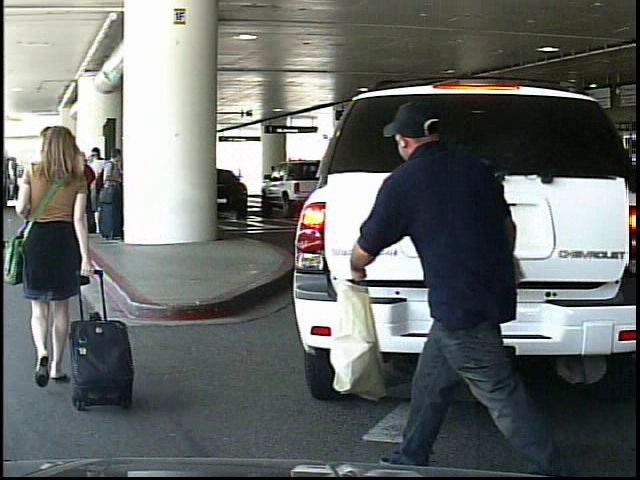person: (356, 75, 537, 471), (4, 121, 110, 417)
